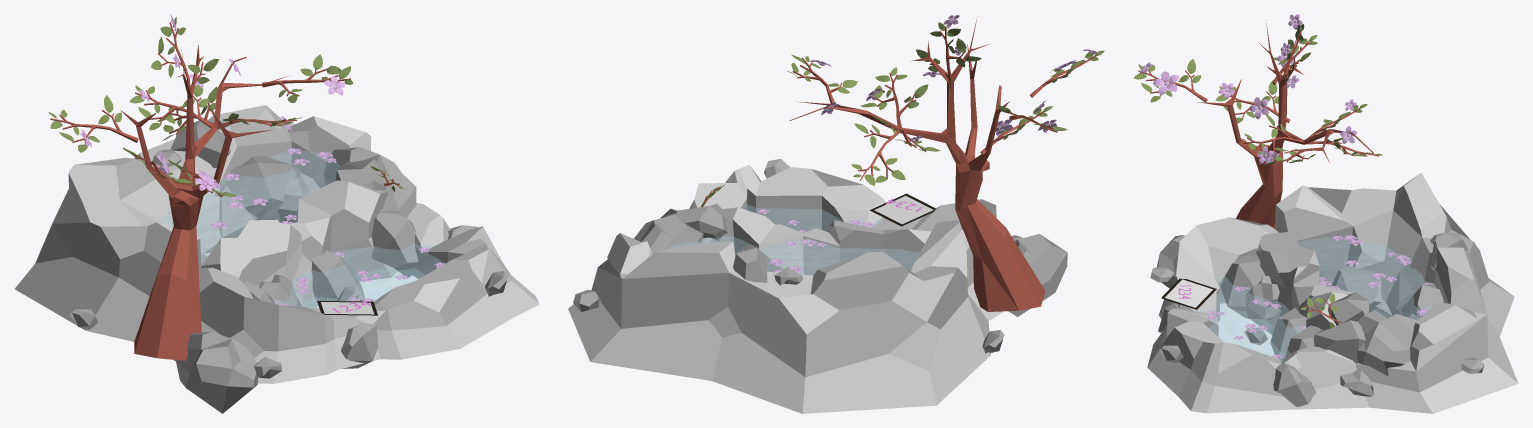
Rendered from miyawaki.glb.
3 views of the same model, side by side, from view 1: azimuth 30°, elevation 25°; view 2: azimuth 150°, elevation 25°; view 3: azimuth 270°, elevation 25° (orthographic). The views are drawn at different scales.
Visible parts, largest first — view 1: Rock, Water, Rock.001, Tree, Rock.002, Rock.022, Rock.019, Rock.009, Rock.014, Rock.020, Rock.013, Rock.021 (+6 smaller); view 2: Rock, Tree, Rock.001, Water, Rock.002, Rock.013, Rock.021, Plane, Rock.023; view 3: Rock, Water, Rock.001, Tree, Rock.013, Rock.010, Rock.020, Rock.015, Rock.011, Rock.007, Rock.009, Plane (+7 smaller).
Part boxes in pixels (bbox=[...]): Rock: bbox=[14, 105, 539, 383]; Water: bbox=[157, 148, 442, 308]; Rock.001: bbox=[201, 180, 397, 308]; Tree: bbox=[120, 45, 289, 360]; Rock.002: bbox=[175, 331, 257, 413]; Rock.022: bbox=[223, 156, 301, 222]; Rock.019: bbox=[371, 212, 418, 277]; Rock.009: bbox=[311, 250, 365, 301]; Rock.014: bbox=[341, 323, 378, 368]; Rock.020: bbox=[379, 171, 416, 217]; Rock.013: bbox=[323, 147, 402, 185]; Rock.021: bbox=[335, 159, 386, 190]; Rock: bbox=[568, 165, 1003, 413]; Tree: bbox=[789, 16, 1045, 311]; Rock.001: bbox=[702, 207, 931, 275]; Water: bbox=[666, 205, 918, 274]; Rock.002: bbox=[1009, 234, 1067, 316]; Rock.013: bbox=[634, 214, 703, 254]; Rock.021: bbox=[676, 203, 728, 240]; Plane: bbox=[870, 193, 935, 226]; Rock.023: bbox=[733, 244, 767, 288]; Rock: bbox=[1147, 172, 1518, 413]; Water: bbox=[1196, 235, 1431, 362]; Rock.001: bbox=[1246, 231, 1353, 334]; Tree: bbox=[1197, 23, 1373, 228]; Rock.013: bbox=[1357, 310, 1417, 375]; Rock.010: bbox=[1220, 255, 1264, 318]; Rock.020: bbox=[1313, 320, 1365, 363]; Rock.015: bbox=[1273, 363, 1316, 407]; Rock.011: bbox=[1331, 263, 1382, 310]; Rock.007: bbox=[1245, 275, 1279, 320]; Rock.009: bbox=[1270, 308, 1306, 359]; Plane: bbox=[1161, 278, 1216, 309].
Bounding box in the file's own units: 8.36 × 6.32 × 7.62.
